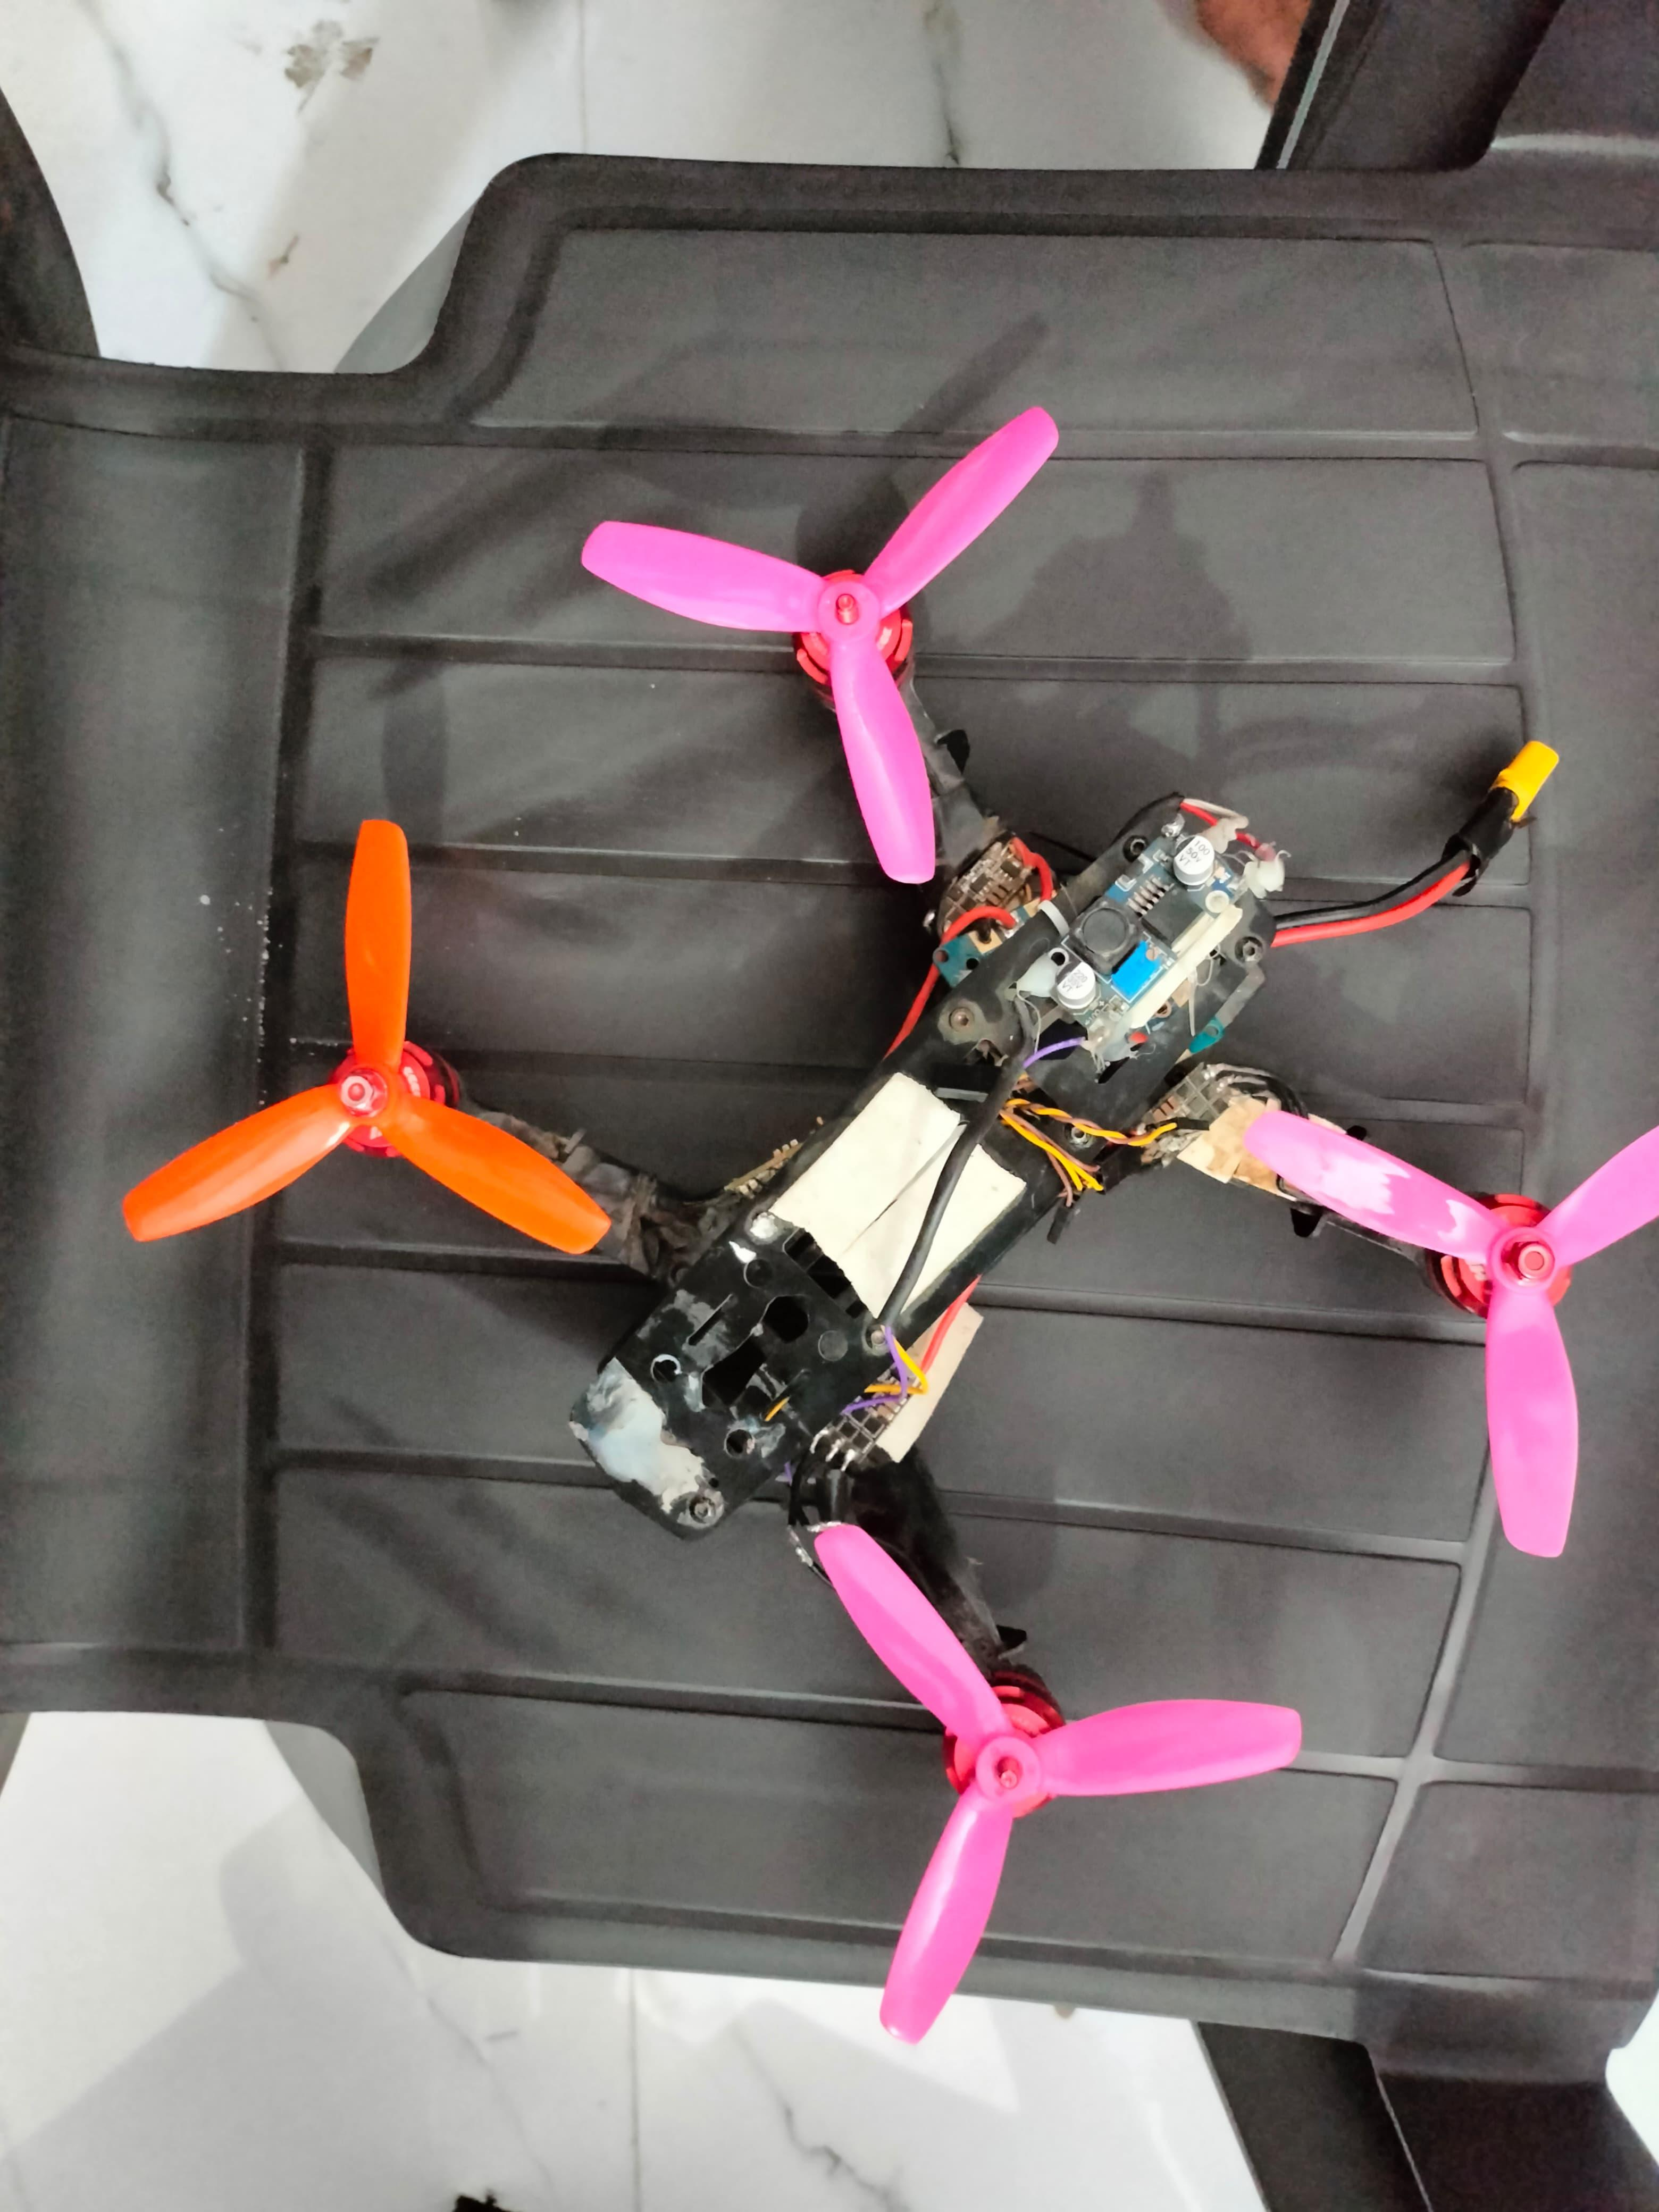drone: (98, 421, 1659, 2017)
